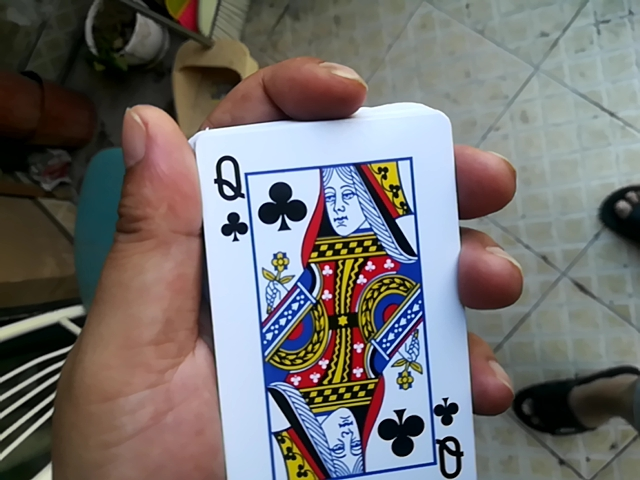mh q: (177, 93, 480, 478)
